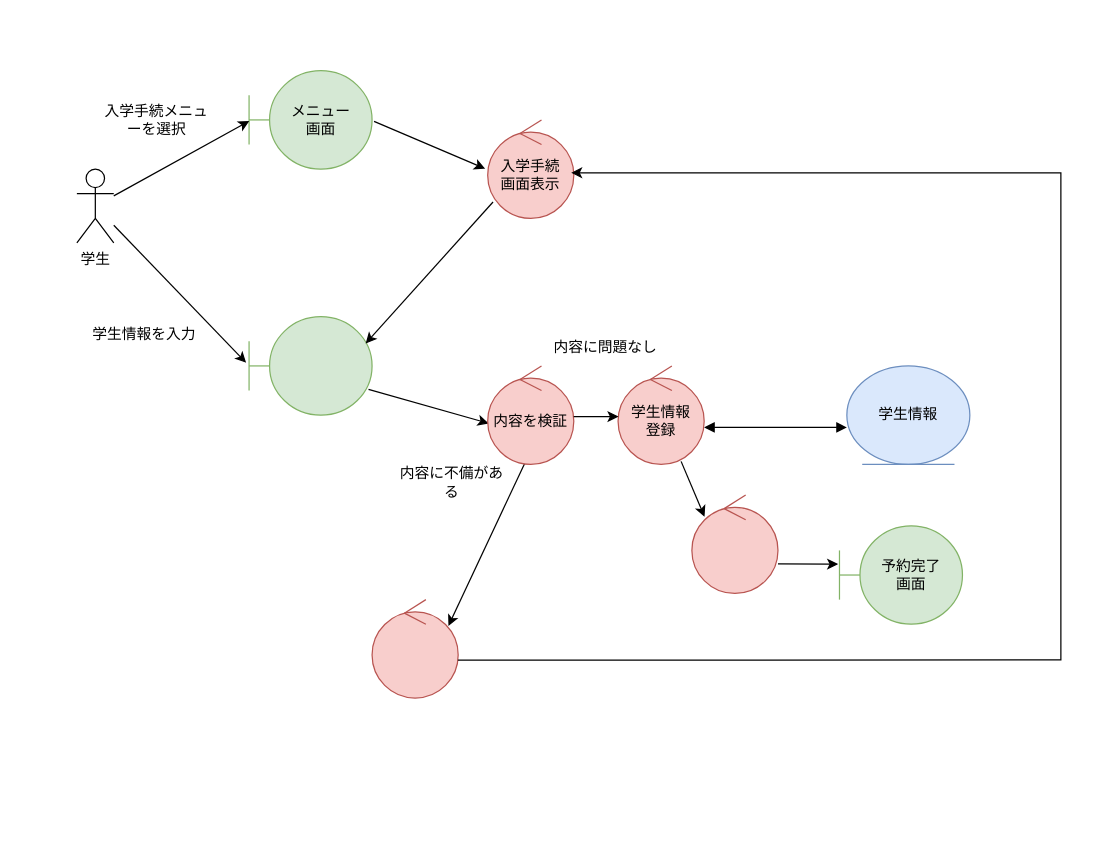
Image size: 1118x841. Some labels were removed from this diagram. The shapes that lost their labels are listed below. From the top down, each one's centre as x and y in pixels, then its label:
At (310,365): "入学手続 画面".
At (734,543): "予約完了 画面表示".
At (414,648): "エラーメッセージ表示".
